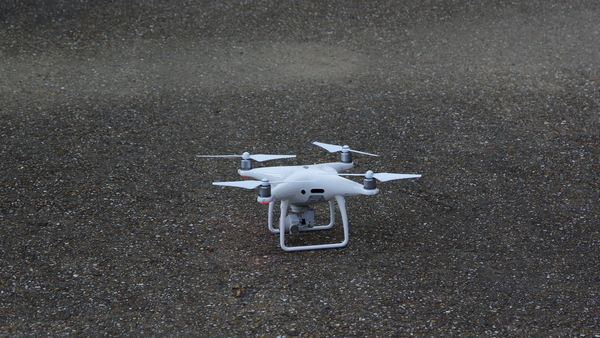drone: (194, 140, 423, 254)
